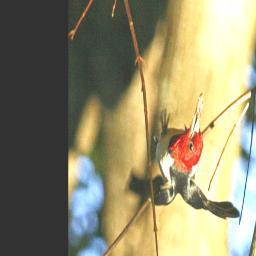Woodpecker: (126, 90, 246, 231)
